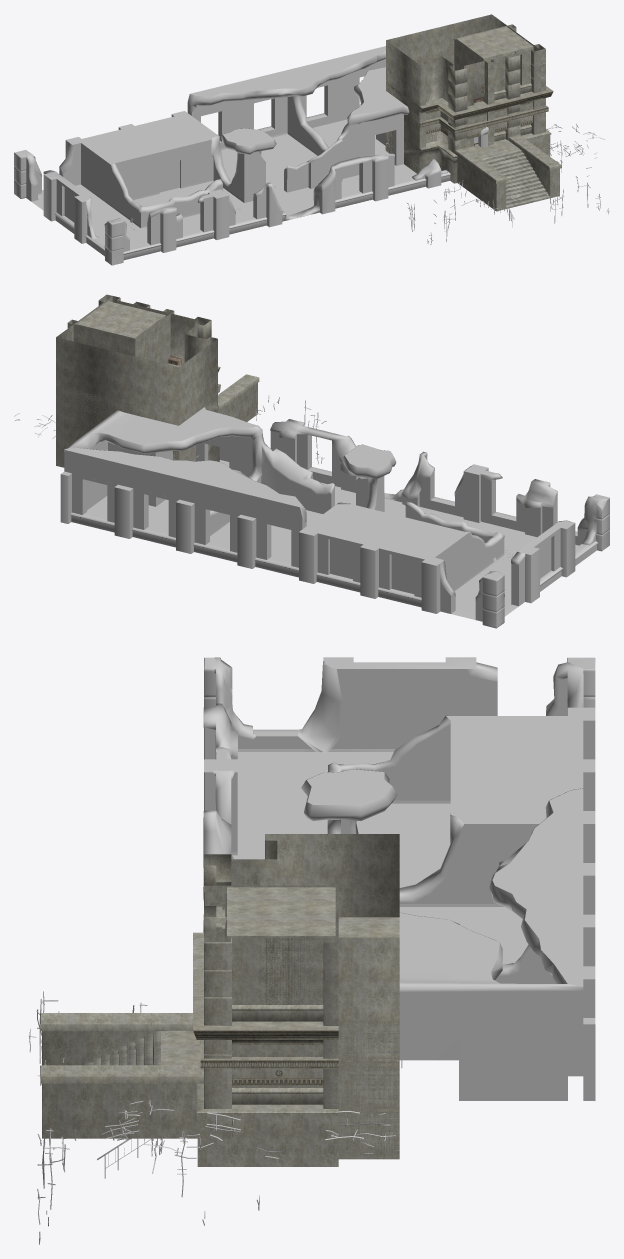
The model's file is kosovo city part 2.FBX.
3 renders of one model, top to bottom at view 1: azimuth 30°, elevation 25°; view 2: azimuth 150°, elevation 25°; view 3: azimuth 270°, elevation 25°, orthographic. The views are drawn at different scales.
Parts seen in each view (by area): view 1: adm_top_dmg, adm_base_door_v1, adm_base_door_stairs, adm_top_door_v1, adm_base_v2, adm_base_corner_v1, adm_base_v1, adm_mid_door_v1, adm_top_armature_a, adm_top_v1, adm_top_corner_v1, adm_top_armature_b; view 2: adm_top_dmg, adm_base_door_v1, adm_base_v2, adm_base_v1, adm_top_door_v1, adm_base_corner_v1, adm_base_door_stairs, adm_mid_door_v1; view 3: adm_top_dmg, adm_base_door_v1, adm_base_door_stairs, adm_base_corner_v1, adm_top_door_v1, adm_top_corner_v1, adm_base_v1, adm_base_v2, adm_mid_door_v1, adm_top_armature_a, adm_top_armature_b.
Part boxes in pixels (left/top/right/bottom): adm_top_dmg: left=14, top=46, right=488, bottom=265; adm_base_door_v1: left=386, top=14, right=525, bottom=183; adm_base_door_stairs: left=455, top=134, right=561, bottom=211; adm_top_door_v1: left=386, top=65, right=527, bottom=170; adm_base_v2: left=456, top=26, right=541, bottom=144; adm_base_corner_v1: left=454, top=24, right=551, bottom=156; adm_base_v1: left=454, top=26, right=542, bottom=144; adm_mid_door_v1: left=386, top=123, right=520, bottom=172; adm_top_armature_a: left=385, top=124, right=609, bottom=244; adm_top_v1: left=488, top=92, right=543, bottom=134; adm_top_corner_v1: left=487, top=86, right=553, bottom=127; adm_top_armature_b: left=433, top=144, right=597, bottom=228; adm_top_dmg: left=60, top=407, right=609, bottom=628; adm_base_door_v1: left=56, top=301, right=219, bottom=467; adm_base_v2: left=76, top=301, right=172, bottom=338; adm_base_v1: left=73, top=296, right=174, bottom=363; adm_top_door_v1: left=56, top=363, right=220, bottom=465; adm_base_corner_v1: left=67, top=294, right=173, bottom=364; adm_base_door_stairs: left=218, top=374, right=259, bottom=421; adm_mid_door_v1: left=56, top=419, right=210, bottom=467; adm_top_dmg: left=203, top=657, right=595, bottom=1100; adm_base_door_v1: left=197, top=834, right=399, bottom=1159; adm_base_door_stairs: left=40, top=1013, right=203, bottom=1138; adm_base_corner_v1: left=196, top=885, right=338, bottom=1166; adm_top_door_v1: left=193, top=917, right=399, bottom=1159; adm_top_corner_v1: left=193, top=969, right=338, bottom=1108; adm_base_v1: left=196, top=885, right=338, bottom=1103; adm_base_v2: left=197, top=885, right=338, bottom=1103; adm_mid_door_v1: left=266, top=1076, right=399, bottom=1159; adm_top_armature_a: left=28, top=998, right=402, bottom=1244; adm_top_armature_b: left=36, top=991, right=395, bottom=1188.
Size of the model in its own units: 4538 by 1320 by 2317.
